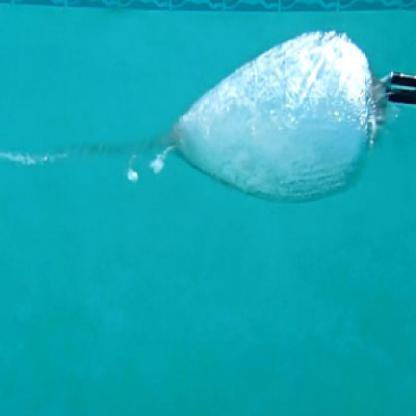gun: (379, 56, 415, 200)
